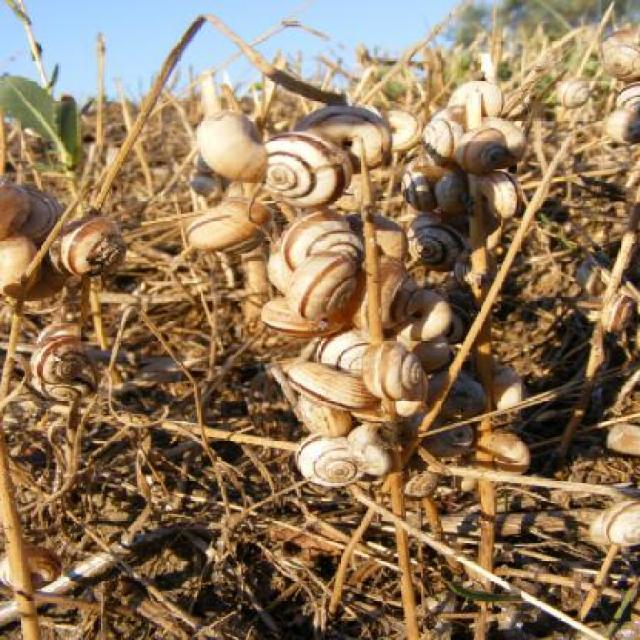Mushroom: (185, 72, 529, 494), (0, 180, 128, 316), (427, 470, 639, 548), (552, 27, 640, 147), (27, 324, 91, 404), (0, 544, 63, 593), (600, 292, 638, 334)
